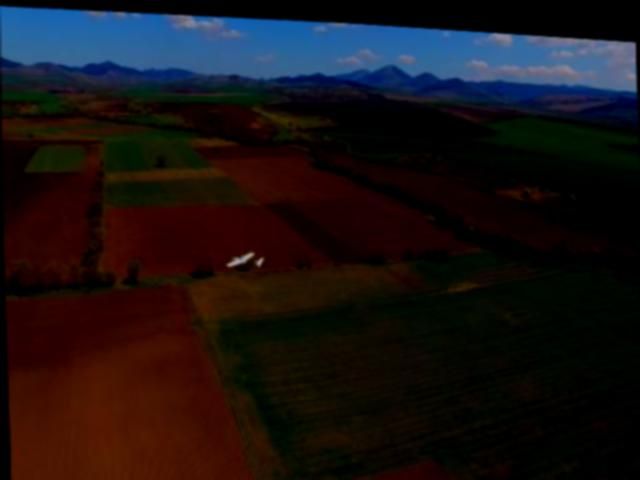uav: (217, 237, 269, 275)
